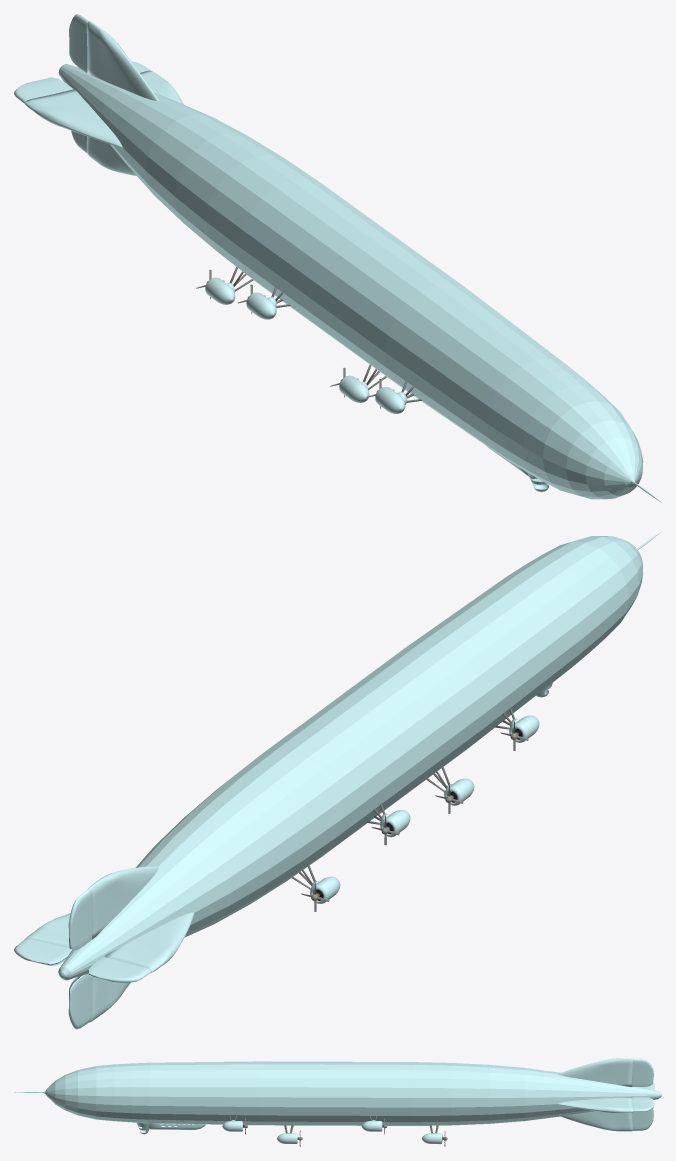
Rendered from airship_spirit_of_adventure.glb.
3 renders of one model, top to bottom at view 1: azimuth 30°, elevation 25°; view 2: azimuth 150°, elevation 25°; view 3: azimuth 270°, elevation 25°, orthographic. The views are drawn at different scales.
Parts seen in each view (by area): view 1: Cylinder.001, Circle.008, Circle.012; view 2: Cylinder.001, Circle.008, Circle.012; view 3: Cylinder.001, Circle.008, Circle.012, Cylinder.012, Cylinder.009, Cylinder.006, Cylinder.004.
Boxes of the visible parts, box(x1,y1,x2,y2) form: Cylinder.001: box(24, 21, 661, 502); Circle.008: box(69, 14, 88, 153); Circle.012: box(14, 61, 150, 102); Cylinder.001: box(24, 531, 661, 1022); Circle.008: box(68, 888, 91, 1029); Circle.012: box(14, 939, 151, 982); Cylinder.001: box(14, 1058, 661, 1134); Circle.008: box(632, 1058, 653, 1130); Circle.012: box(632, 1082, 654, 1112); Cylinder.012: box(361, 1121, 382, 1131); Cylinder.009: box(421, 1133, 442, 1144); Cylinder.006: box(277, 1133, 297, 1143); Cylinder.004: box(222, 1121, 243, 1131).
Size of what is drawn, in the model's own units: 2.49 by 2.08 by 16.21.
